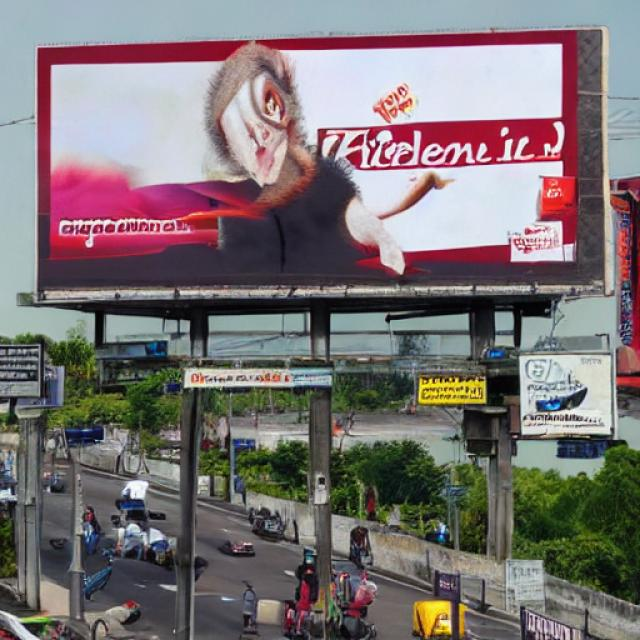Billboard: (40, 30, 604, 300)
